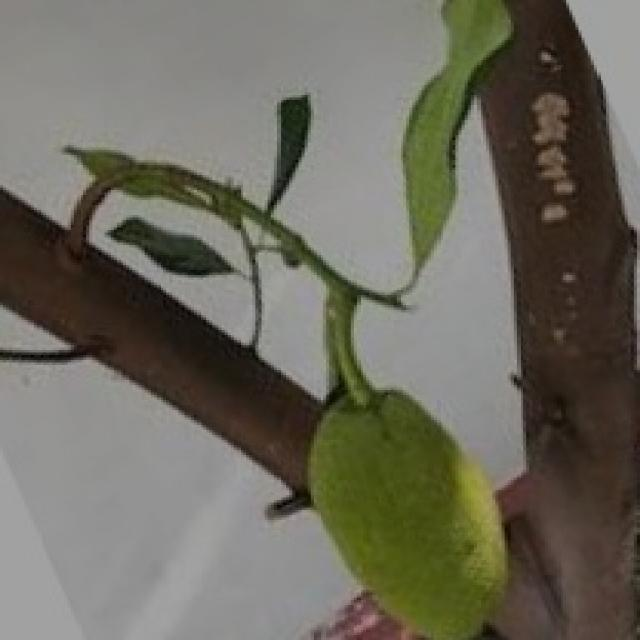Fruit: (270, 367, 544, 640)
